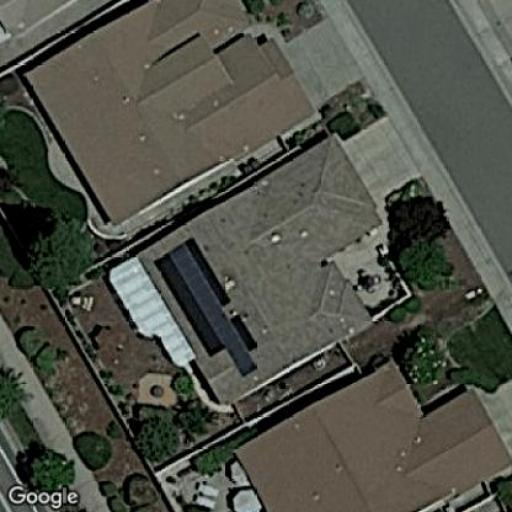solar-panel: (155, 234, 260, 380)
